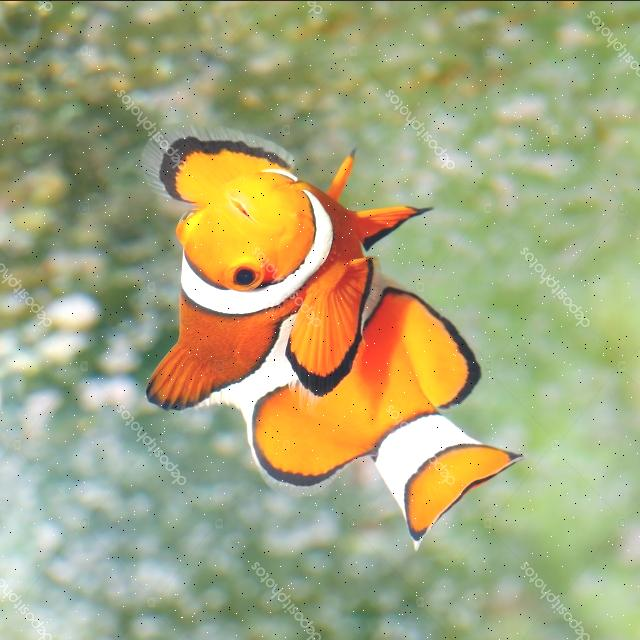Sirip Anal: (386, 256, 492, 414)
Sirip Dada: (263, 250, 389, 408), (124, 116, 308, 210)
Sirip Ekor: (376, 420, 534, 560)
Sirip Perut: (314, 130, 446, 254)
Sirip Punggung: (125, 323, 371, 502)
